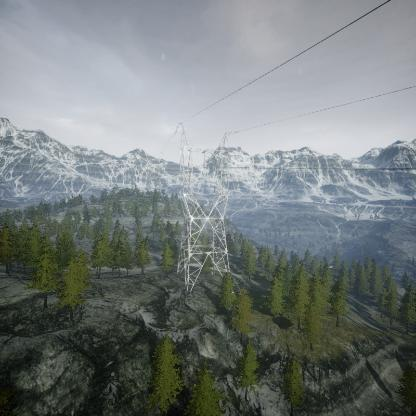tower: (171, 121, 240, 293)
